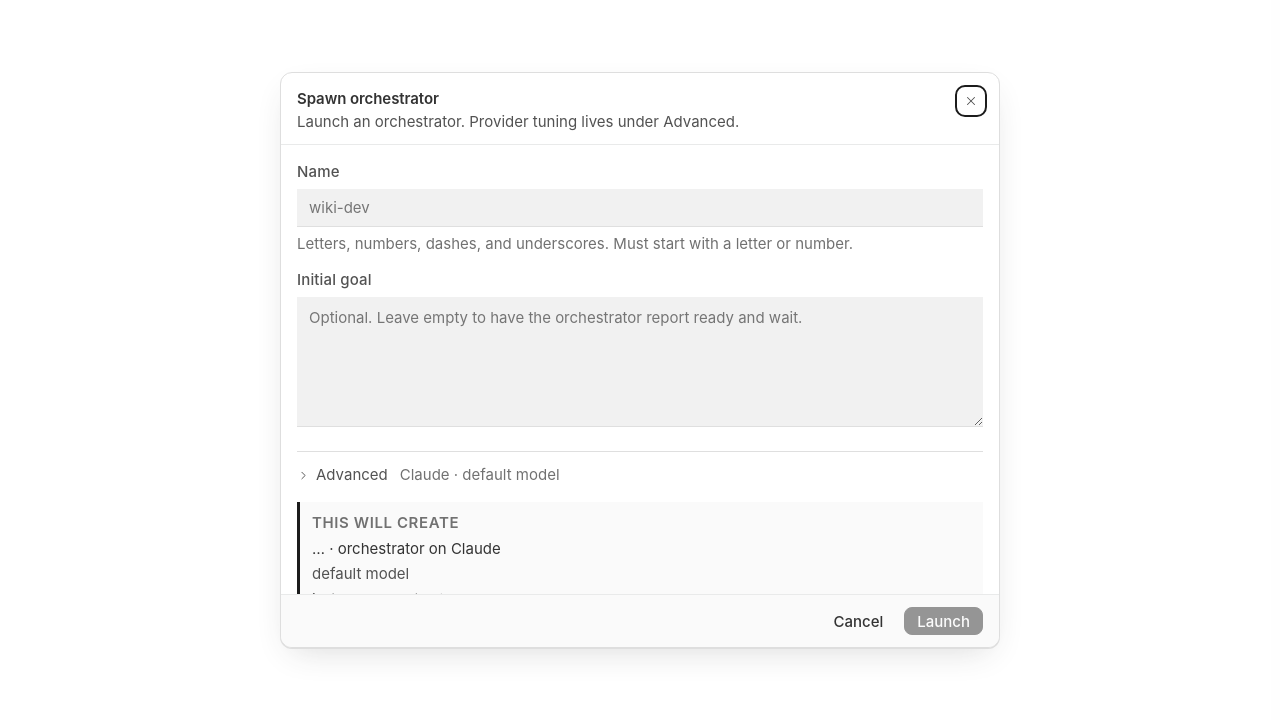
Scenario: spawn orchestrator dialog leads with name and goal; provider/model live under Advanced
Open Advanced.
What coordinates should you click on to do the following:
click the button "Advanced Claude · default model"
I would click on:
 (428, 475)
Its box is [297,460,560,490].
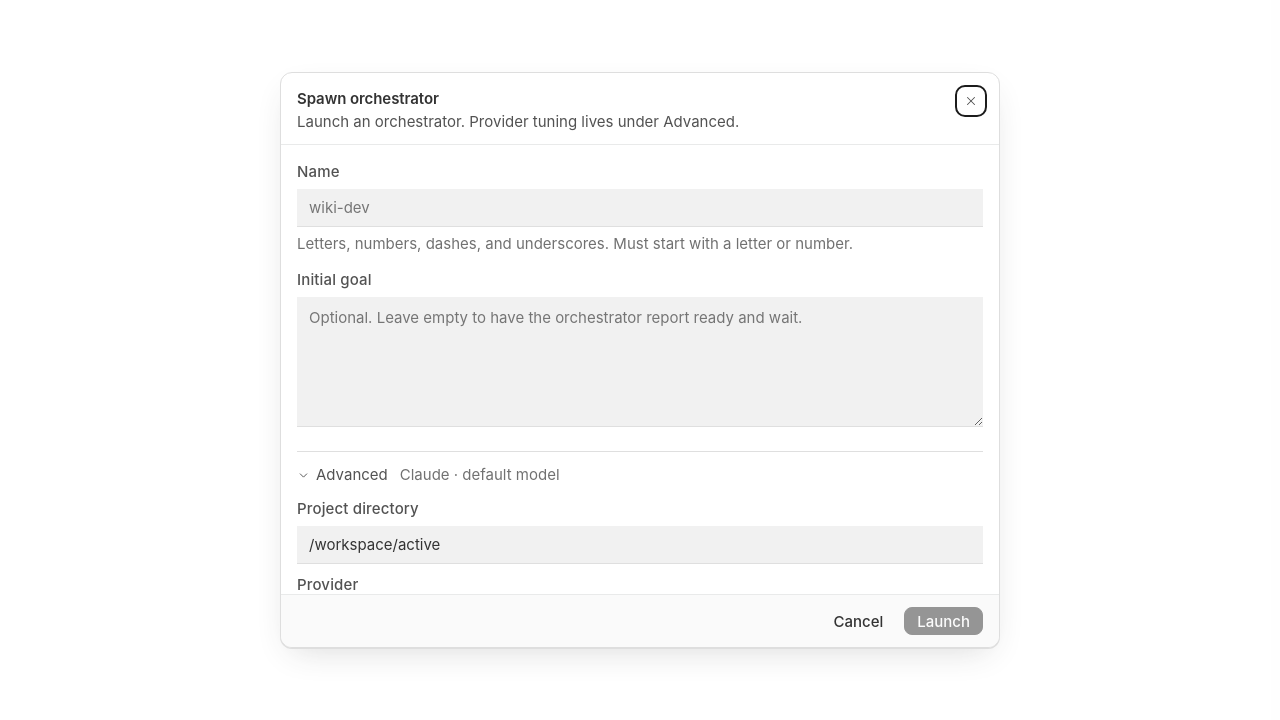
Check: the field with placeholder "/tmp/project" is shown, box [297,526,983,564]
